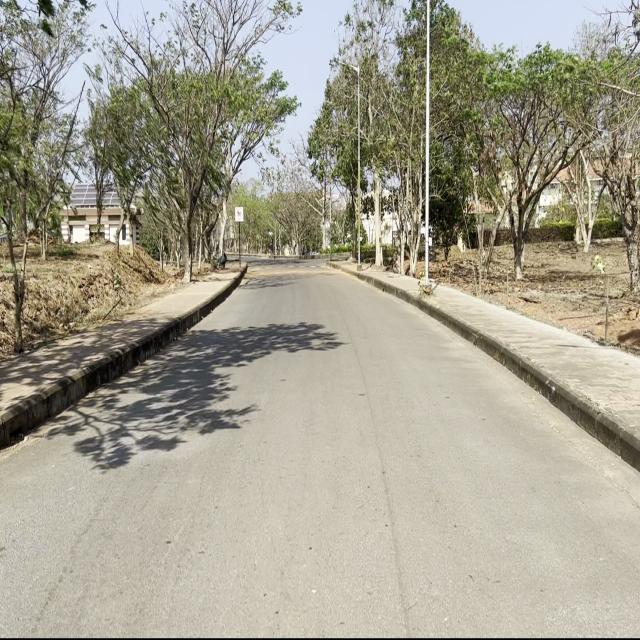Road: (3, 258, 637, 633)
